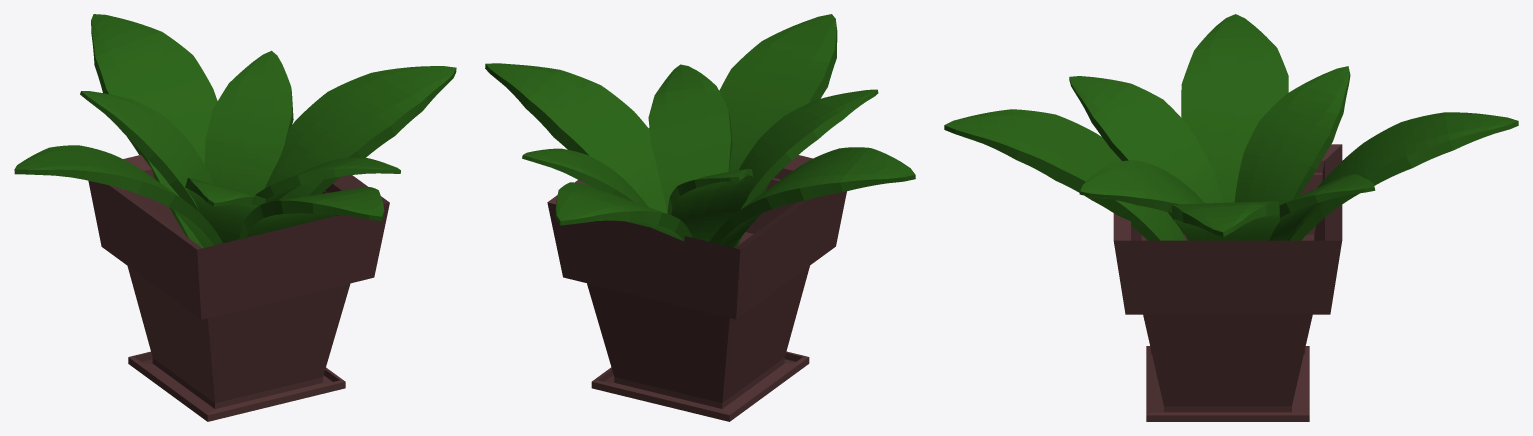
File: Planta.fbx
3 views of the same model, side by side, from view 1: azimuth 30°, elevation 25°; view 2: azimuth 150°, elevation 25°; view 3: azimuth 270°, elevation 25° (orthographic). The views are drawn at different scales.
Parts seen in each view (by area): view 1: Maceta, Hoja.002, Hoja.003, Hoja.004, Hoja.001, Hoja.006, Hoja, Hoja.007, Hoja.005; view 2: Maceta, Hoja.002, Hoja, Hoja.005, Hoja.001, Hoja.007, Hoja.006, Hoja.003, Hoja.004; view 3: Maceta, Hoja.001, Hoja, Hoja.006, Hoja.007, Hoja.003, Hoja.005, Hoja.002, Hoja.004.
Boxes of the visible parts, left/top/right/bottom form: Maceta: left=88, top=155, right=389, bottom=421; Hoja.002: left=265, top=66, right=456, bottom=200; Hoja.003: left=91, top=14, right=217, bottom=248; Hoja.004: left=204, top=50, right=293, bottom=195; Hoja.001: left=14, top=145, right=222, bottom=247; Hoja.006: left=80, top=91, right=213, bottom=212; Hoja: left=239, top=187, right=384, bottom=239; Hoja.007: left=185, top=177, right=267, bottom=243; Hoja.005: left=255, top=157, right=400, bottom=202; Maceta: left=547, top=128, right=846, bottom=421; Hoja.002: left=485, top=63, right=667, bottom=213; Hoja: left=719, top=14, right=837, bottom=247; Hoja.005: left=648, top=64, right=732, bottom=212; Hoja.001: left=709, top=147, right=915, bottom=247; Hoja.007: left=739, top=89, right=878, bottom=208; Hoja.006: left=667, top=169, right=753, bottom=241; Hoja.003: left=555, top=182, right=692, bottom=241; Hoja.004: left=522, top=148, right=647, bottom=206; Maceta: left=1113, top=144, right=1342, bottom=421; Hoja.001: left=1181, top=14, right=1288, bottom=202; Hoja: left=944, top=109, right=1185, bottom=240; Hoja.006: left=1234, top=66, right=1350, bottom=205; Hoja.007: left=1069, top=76, right=1222, bottom=234; Hoja.003: left=1287, top=112, right=1518, bottom=240; Hoja.005: left=1079, top=160, right=1204, bottom=212; Hoja.002: left=1172, top=201, right=1279, bottom=240; Hoja.004: left=1269, top=174, right=1375, bottom=240.
Bounding box in the file's own units: 253 × 148 × 282.
